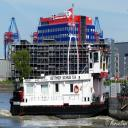tugboat: (9, 44, 119, 124)
